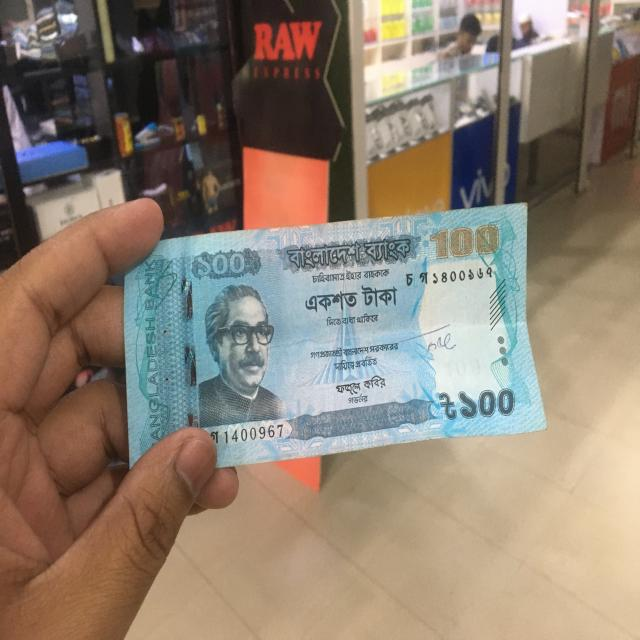Taka: (122, 226, 531, 452)
